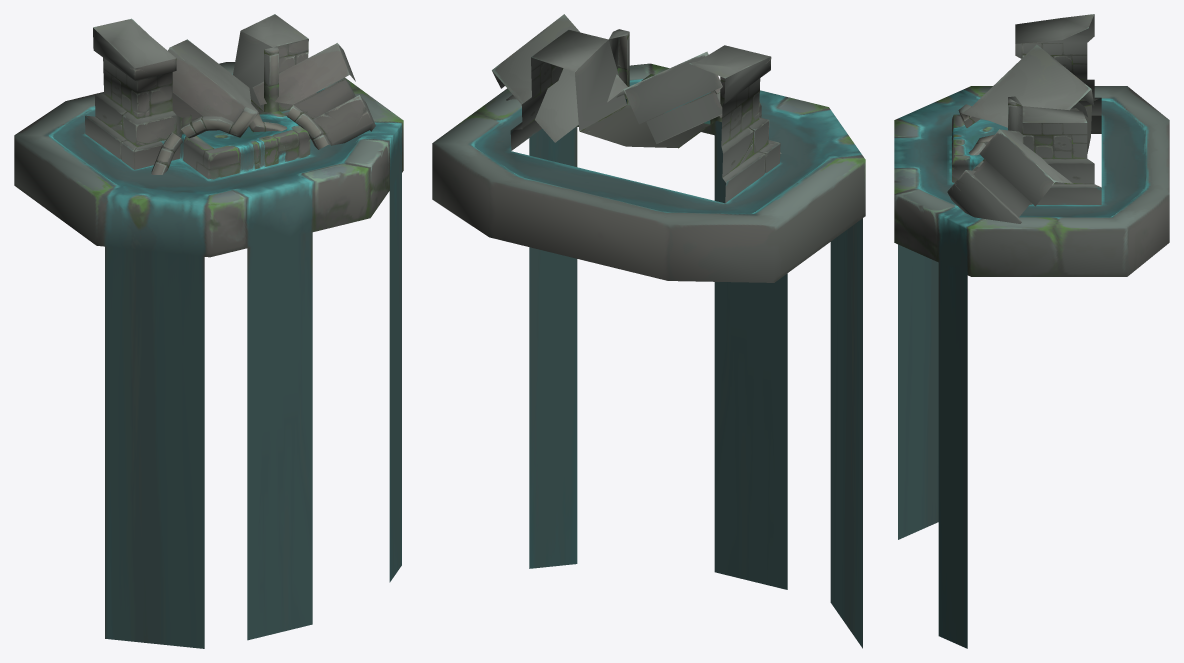
The model's file is yw_shanlin_brokenfountainbase_01.FBX.
The picture shows the model from 3 angles, left to right: view 1: azimuth 30°, elevation 25°; view 2: azimuth 150°, elevation 25°; view 3: azimuth 270°, elevation 25°; orthographic projection. The views are drawn at different scales.
Visible parts, largest first — view 1: yw_shanlin_brokenfountainbase_01; view 2: yw_shanlin_brokenfountainbase_01; view 3: yw_shanlin_brokenfountainbase_01.
Part boxes in pixels (x1,y1,x2,y2): yw_shanlin_brokenfountainbase_01: (14,14,403,648); yw_shanlin_brokenfountainbase_01: (432,14,865,648); yw_shanlin_brokenfountainbase_01: (894,14,1169,648).
Bounding box in the file's own units: 962 × 785 × 1648.
